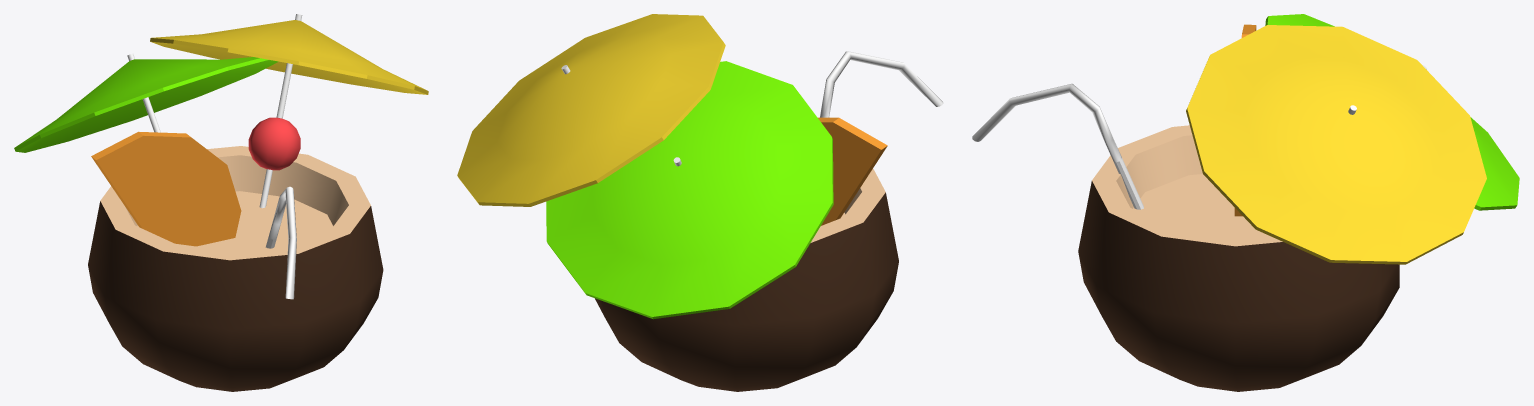
File: ToyObject_181.fbx
3 views of the same model, side by side, from view 1: azimuth 30°, elevation 25°; view 2: azimuth 150°, elevation 25°; view 3: azimuth 270°, elevation 25° (orthographic). The views are drawn at different scales.
Visible parts, largest first — view 1: object-1.073; view 2: object-1.073; view 3: object-1.073.
Part boxes in pixels (x1,y1,x2,y2): object-1.073: (14,14,428,391); object-1.073: (457,14,943,391); object-1.073: (972,14,1519,391).
Size of the model in its own units: 0.1546 by 0.1335 by 0.1888.
